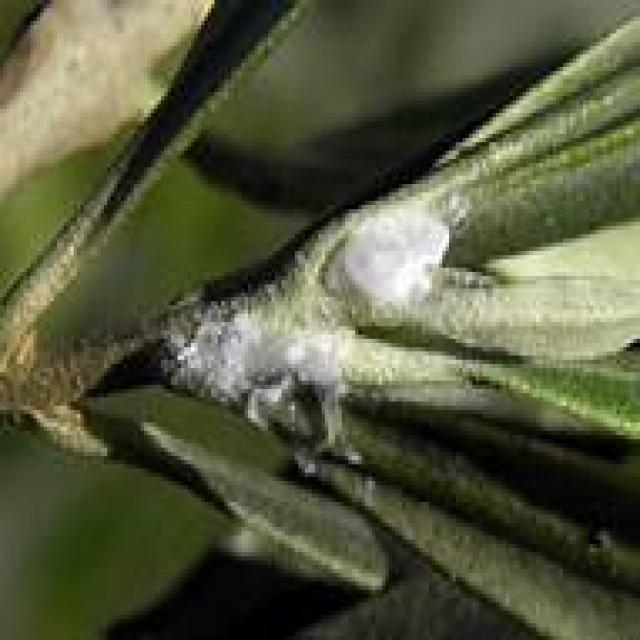Psyllid: (164, 301, 338, 473), (322, 201, 459, 326)
